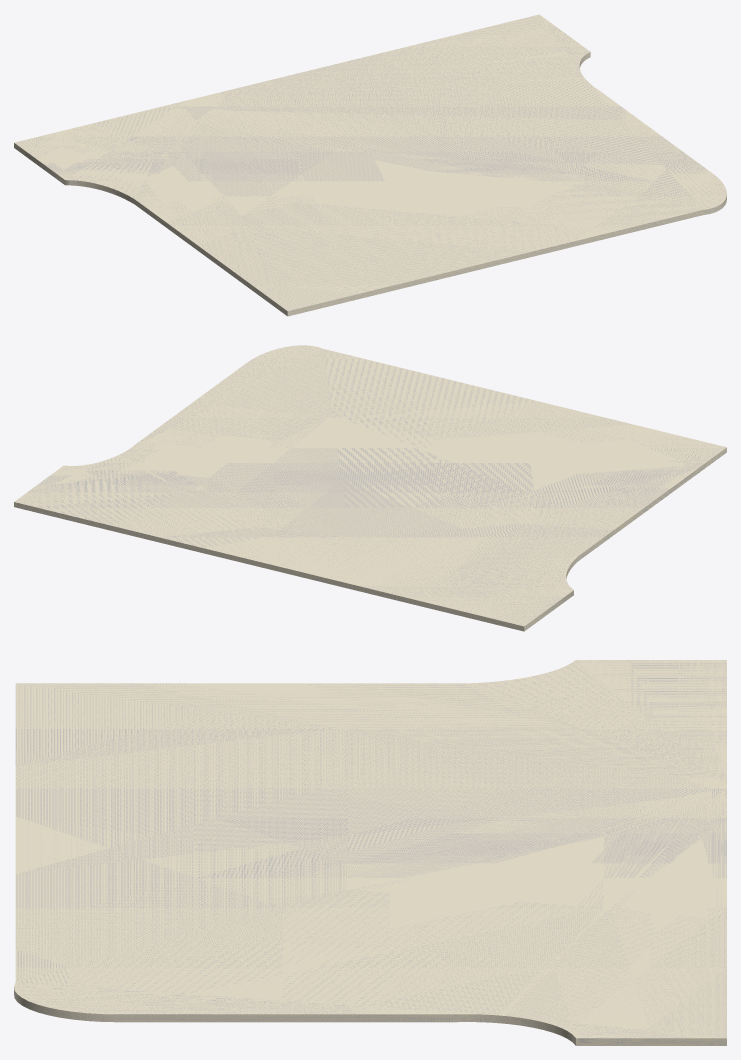
Rendered from original-52.obj.
3 renders of one model, top to bottom at view 1: azimuth 30°, elevation 25°; view 2: azimuth 150°, elevation 25°; view 3: azimuth 270°, elevation 25°, orthographic. The views are drawn at different scales.
Parts seen in each view (by area): view 1: Componente_3_37/Componente_3_1_2/mesh12/mesh12-geometry#mesh12-g; view 2: Componente_3_37/Componente_3_1_2/mesh12/mesh12-geometry#mesh12-g; view 3: Componente_3_37/Componente_3_1_2/mesh12/mesh12-geometry#mesh12-g.
Boxes of the visible parts, left/top/right/bottom form: Componente_3_37/Componente_3_1_2/mesh12/mesh12-geometry#mesh12-g: left=14, top=14, right=726, bottom=316; Componente_3_37/Componente_3_1_2/mesh12/mesh12-geometry#mesh12-g: left=14, top=345, right=726, bottom=631; Componente_3_37/Componente_3_1_2/mesh12/mesh12-geometry#mesh12-g: left=14, top=660, right=726, bottom=1045.
Size of the model in its own units: 0.078 by 0.000748 by 0.0621.
